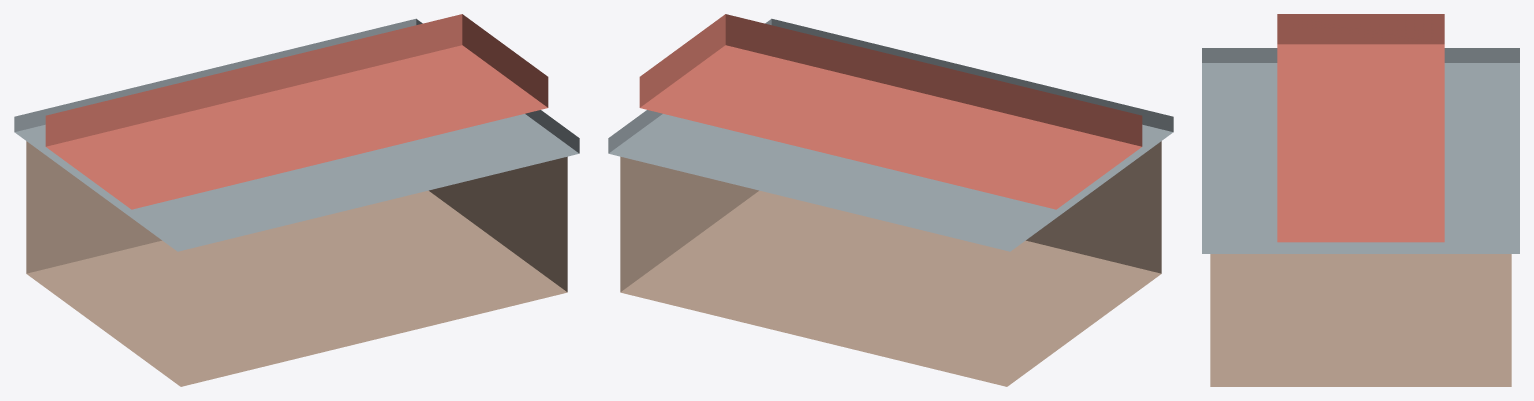
The model's file is warehouse_low.glb.
3 views of the same model, side by side, from view 1: azimuth 30°, elevation 25°; view 2: azimuth 150°, elevation 25°; view 3: azimuth 270°, elevation 25° (orthographic). The views are drawn at different scales.
Parts seen in each view (by area): view 1: warehouse low; view 2: warehouse low; view 3: warehouse low.
Boxes of the visible parts, <box> form: warehouse low: <box>14,14,579,386</box>; warehouse low: <box>608,14,1173,386</box>; warehouse low: <box>1202,14,1519,386</box>.
Size of the model in its own units: 28 by 12 by 19.
